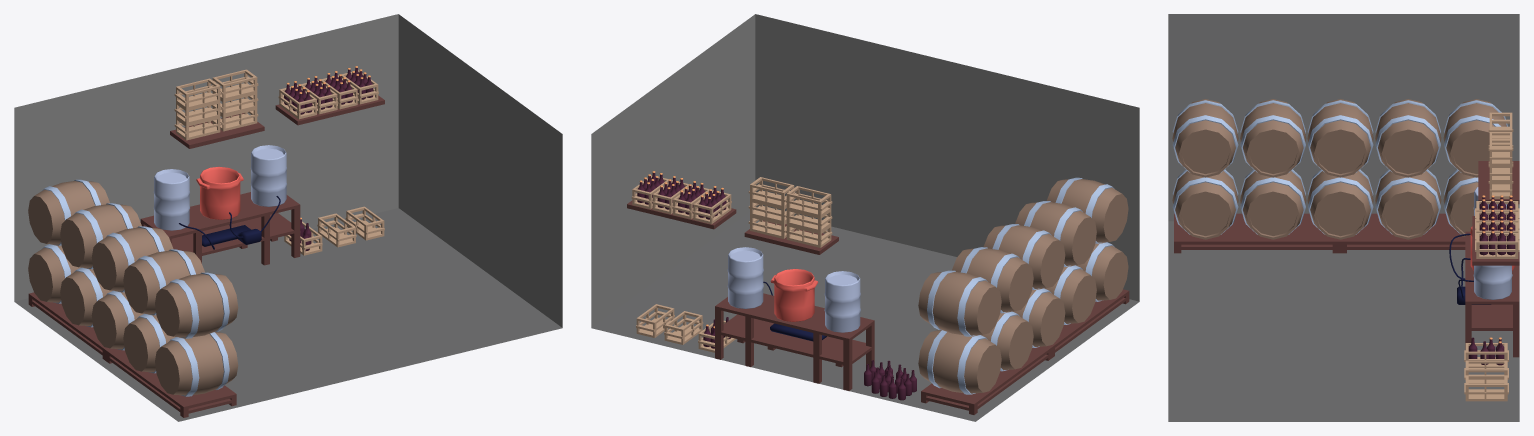
3 views of the same model, side by side, from view 1: azimuth 30°, elevation 25°; view 2: azimuth 150°, elevation 25°; view 3: azimuth 270°, elevation 25° (orthographic). The views are drawn at different scales.
Visible parts, largest first — view 1: garage, barril, brew_table, crate2, chemical, barril_holder, beer_crate2, mixture, crate, mixer, beer_crate; view 2: garage, barril, brew_table, crate2, chemical, barril_holder, beer_crate2, mixture, crate, empty_bottle, beer_crate; view 3: garage, barril, barril_holder, brew_table, beer_crate2, crate2, crate, chemical, beer_crate.
Part boxes in pixels (bbox=[...]): garage: bbox=[14, 14, 562, 421]; barril: bbox=[28, 179, 238, 396]; brew_table: bbox=[140, 95, 384, 265]; crate2: bbox=[174, 69, 258, 140]; chemical: bbox=[153, 145, 286, 230]; barril_holder: bbox=[28, 292, 236, 417]; beer_crate2: bbox=[278, 66, 378, 119]; mixture: bbox=[196, 166, 243, 219]; crate: bbox=[317, 206, 384, 247]; mixer: bbox=[202, 225, 261, 246]; beer_crate: bbox=[284, 217, 322, 255]; garage: bbox=[591, 14, 1139, 421]; barril: bbox=[918, 177, 1128, 394]; brew_table: bbox=[627, 200, 874, 390]; crate2: bbox=[748, 177, 832, 247]; chemical: bbox=[727, 247, 860, 332]; barril_holder: bbox=[921, 289, 1129, 414]; beer_crate2: bbox=[631, 171, 731, 224]; mixture: bbox=[770, 268, 818, 321]; crate: bbox=[636, 304, 703, 344]; empty_bottle: bbox=[864, 360, 916, 400]; beer_crate: bbox=[698, 317, 735, 352]; garage: bbox=[1168, 14, 1519, 421]; barril: bbox=[1172, 99, 1507, 239]; barril_holder: bbox=[1174, 213, 1465, 253]; brew_table: bbox=[1465, 161, 1519, 357]; beer_crate2: bbox=[1475, 195, 1519, 258]; crate2: bbox=[1488, 112, 1513, 198]; crate: bbox=[1464, 360, 1508, 401]; chemical: bbox=[1473, 187, 1512, 299]; beer_crate: bbox=[1464, 337, 1508, 367].
Bounding box in the file's own units: 17.9 × 8.64 × 13.25.
Materials: 1 (1 with a texture image).
